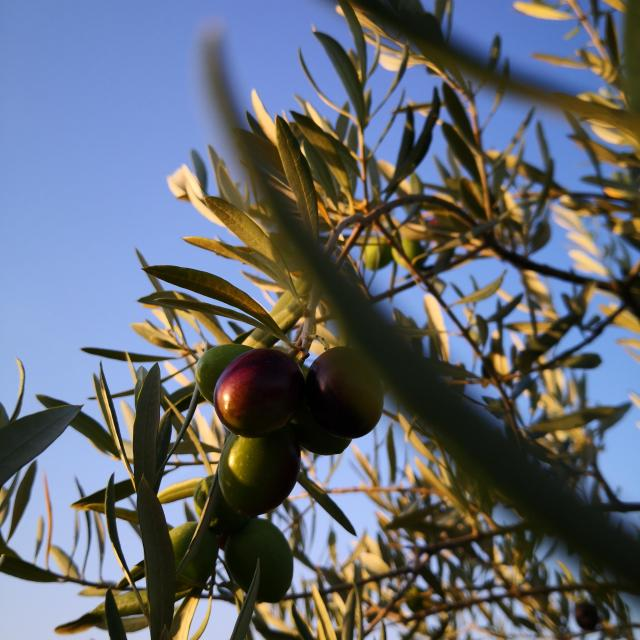Healthy: (213, 349, 305, 438), (306, 346, 383, 439), (219, 428, 301, 515)
